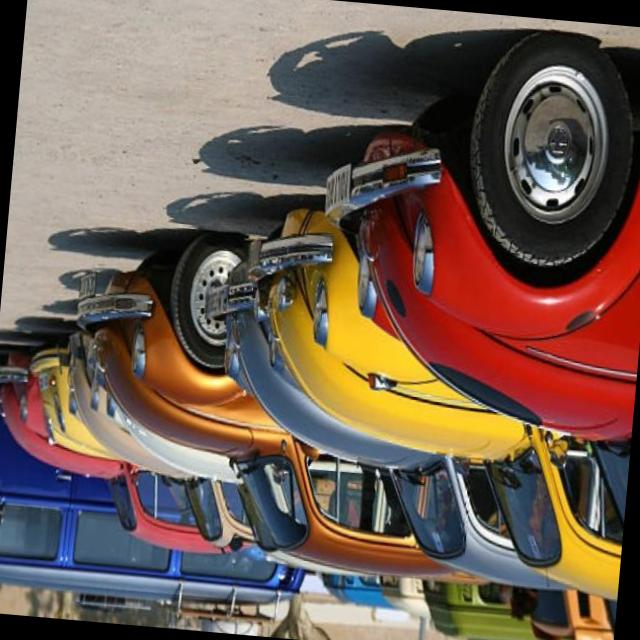car: (68, 213, 546, 594), (326, 26, 640, 538)
